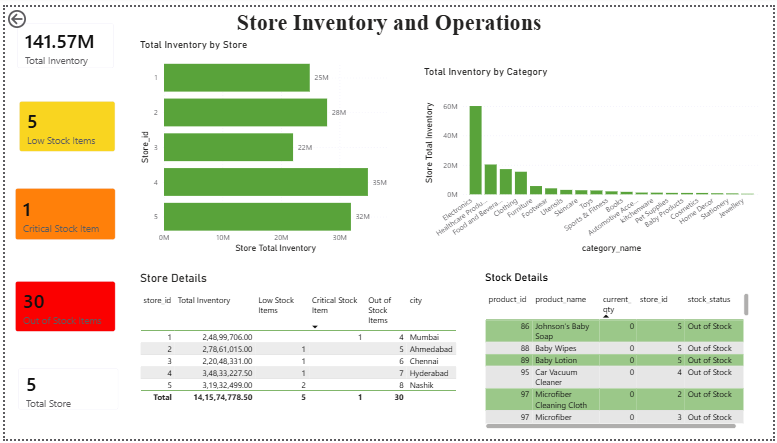

This screenshot's page, from the dashboard's own definition file:
{"tool":"powerbi","page":{"name":"Page 3","canvas":[1280,720],"ordinal":2},"visuals":[{"type":"textbox","box":[96.9,0,1087.7,64.6],"z":0},{"type":"cardVisual","fields":{"Data":["retail_sales category.Store Total Inventory"]},"box":[3.3,10,195.4,109.2],"z":1000},{"type":"cardVisual","fields":{"Data":["retail_sales category.Total Store"]},"box":[5,585,201.5,103.1],"z":2000},{"type":"cardVisual","fields":{"Data":["retail_sales category.Store Out of Stock Items"]},"box":[0,440,201.4,118.6],"z":3000},{"type":"clusteredBarChart","title":"Total Inventory by Store","fields":{"Category":["retail_sales store.store_id"],"Y":["retail_sales category.Store Total Inventory"]},"box":[220,51.7,433.8,363.1],"z":4000},{"type":"cardVisual","fields":{"Data":["retail_sales category.Store Critical Stock Item"]},"box":[0,284.3,201.4,120],"z":5000},{"type":"columnChart","title":"Total Inventory by Category","fields":{"Category":["retail_sales category.category_name"],"Y":["retail_sales category.Store Total Inventory"]},"box":[693.3,96.7,569.3,317.6],"z":6000},{"type":"tableEx","title":"Store Details","fields":{"Values":["retail_sales store.store_id","retail_sales category.Store Total Inventory","retail_sales category.Store Low Stock Items","retail_sales category.Store Critical Stock Item","retail_sales category.Store Out of Stock Items","retail_sales location.city"]},"box":[219.6,439.2,540.5,249.6],"z":7000},{"type":"actionButton","box":[0,0,100,40],"z":8000},{"type":"cardVisual","fields":{"Data":["retail_sales category.Store Low Stock Items"]},"box":[7.1,140,194.3,118.6],"z":9000},{"type":"tableEx","title":"Stock Details","fields":{"Values":["retail_sales store_stock_status.product_id","retail_sales store_stock_status.product_name","retail_sales store_stock_status.current_quantity","retail_sales store_stock_status.store_id","retail_sales store_stock_status.stock_status"]},"box":[795.8,439.2,450.4,268.4],"z":10000}]}

Visuals, with their boxes in screenshot pixels (x1, y1, x2, y2), scaled from the page's 1280x720 canvas onto the 777x443 screenshot:
textbox: <region>59, 0, 719, 40</region>
cardVisual - retail_sales category.Store Total Inventory: <region>2, 6, 121, 73</region>
cardVisual - retail_sales category.Total Store: <region>3, 360, 125, 423</region>
cardVisual - retail_sales category.Store Out of Stock Items: <region>0, 271, 122, 344</region>
"Total Inventory by Store" clusteredBarChart: <region>134, 32, 397, 255</region>
cardVisual - retail_sales category.Store Critical Stock Item: <region>0, 175, 122, 249</region>
"Total Inventory by Category" columnChart: <region>421, 59, 766, 255</region>
"Store Details" tableEx: <region>133, 270, 461, 424</region>
actionButton: <region>0, 0, 61, 25</region>
cardVisual - retail_sales category.Store Low Stock Items: <region>4, 86, 122, 159</region>
"Stock Details" tableEx: <region>483, 270, 756, 435</region>
